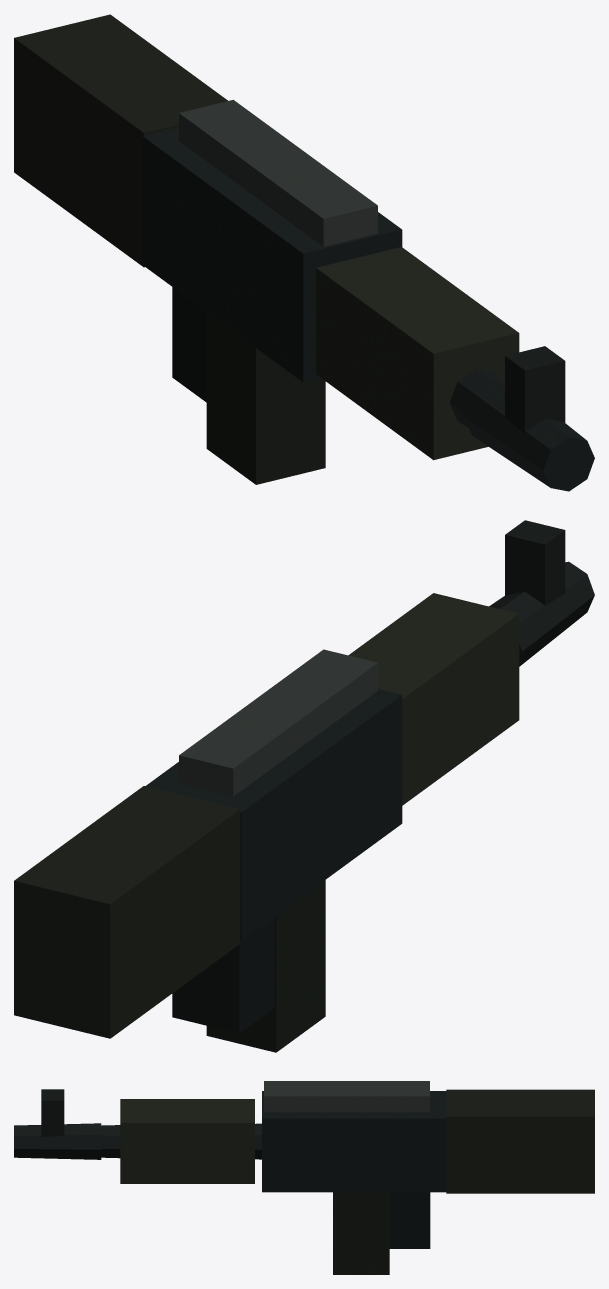
The model's file is carbine.glb.
3 renders of one model, top to bottom at view 1: azimuth 30°, elevation 25°; view 2: azimuth 150°, elevation 25°; view 3: azimuth 270°, elevation 25°, orthographic. The views are drawn at different scales.
Parts seen in each view (by area): view 1: Carbine; view 2: Carbine; view 3: Carbine.
Part boxes in pixels (box(x1,y1,x2,y2)): Carbine: box(14, 14, 594, 491); Carbine: box(14, 520, 594, 1052); Carbine: box(14, 1081, 594, 1274).
Bounding box in the file's own units: 0.111 × 0.33 × 0.984.
Materials: 1 (1 with a texture image).
